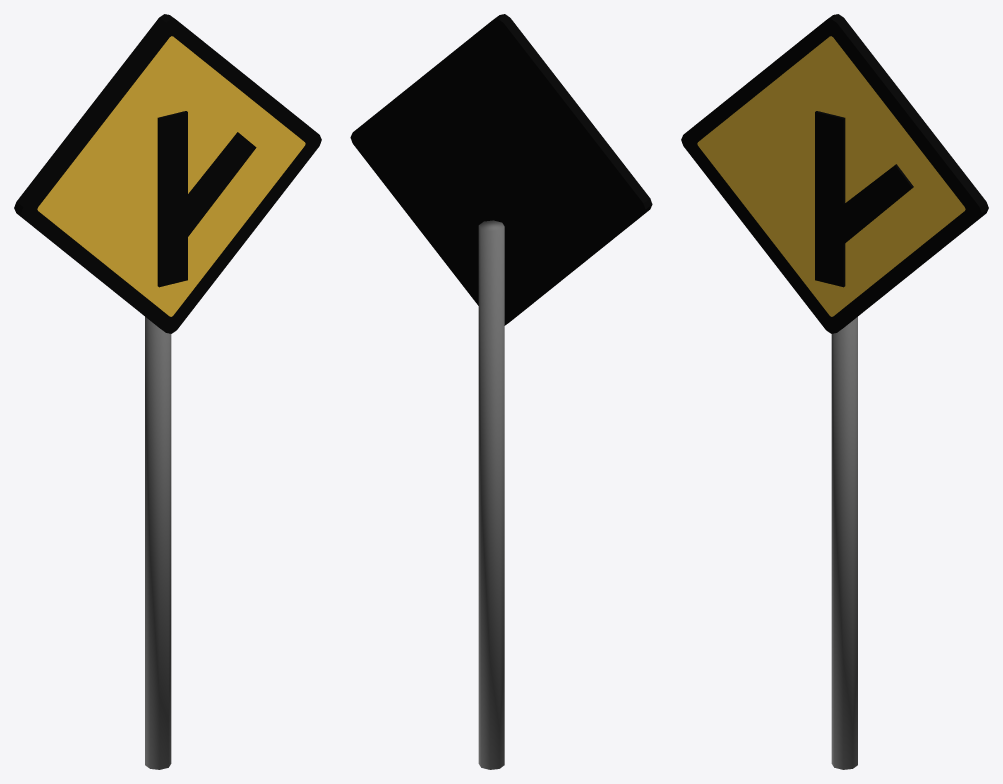
File: Prop_StreetSign_SideRoadRight.fbx
3 views of the same model, side by side, from view 1: azimuth 30°, elevation 25°; view 2: azimuth 150°, elevation 25°; view 3: azimuth 330°, elevation 25° (orthographic).
Parts seen in each view (by area): view 1: Prop_StreetSign_SideRoadRight; view 2: Prop_StreetSign_SideRoadRight; view 3: Prop_StreetSign_SideRoadRight.
Part boxes in pixels (x1,y1,x2,y2): Prop_StreetSign_SideRoadRight: (14,14,321,769); Prop_StreetSign_SideRoadRight: (350,14,652,769); Prop_StreetSign_SideRoadRight: (681,14,988,769).
Size of the model in its own units: 190 by 455 by 23.54.
